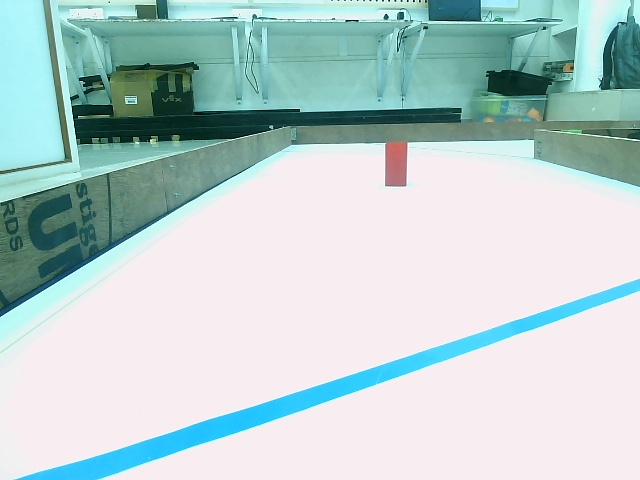red: (386, 142, 408, 186)
